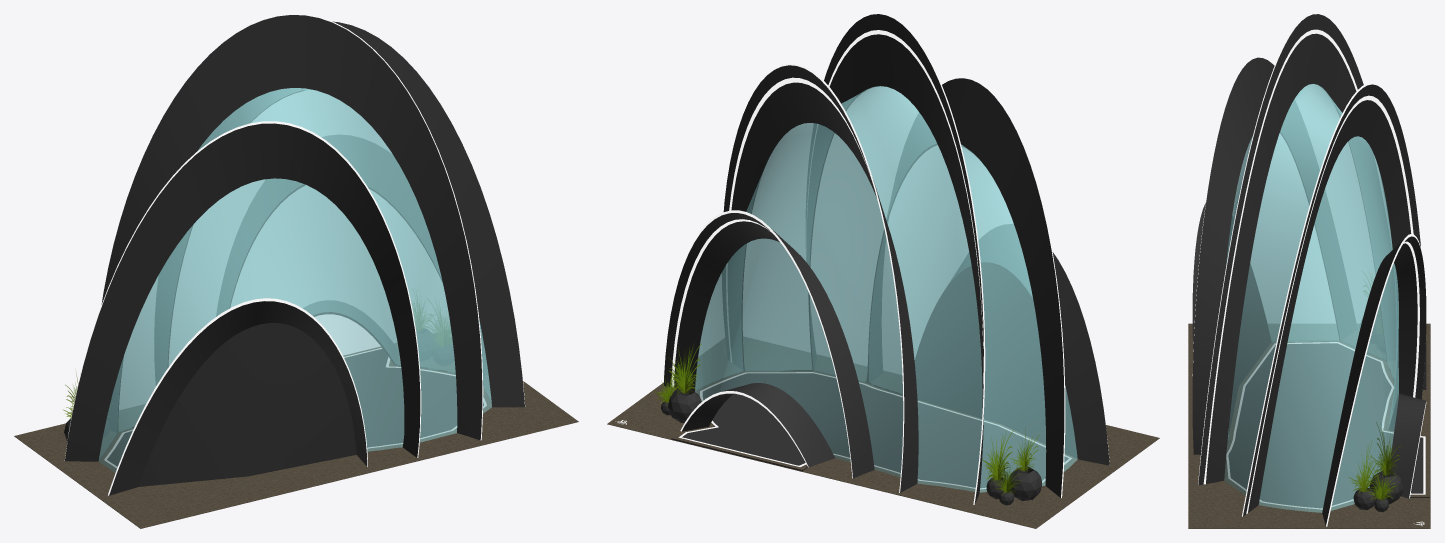
The model's file is Dhingia Builds 09 Size 2x1.glb.
3 renders of one model, left to right at view 1: azimuth 30°, elevation 25°; view 2: azimuth 150°, elevation 25°; view 3: azimuth 270°, elevation 25°, orthographic. The views are drawn at different scales.
Parts seen in each view (by area): view 1: Building, Ground, floor; view 2: Building, floor, Ground, Vase Bog, Vase Bog.001, Vase Small.001; view 3: Building, floor, Ground, Vase Bog, Vase Small, Vase Mid.
Part boxes in pixels (<box>): Building: <box>64,14,525,495</box>; Ground: <box>14,343,578,528</box>; floor: <box>99,348,487,467</box>; Building: <box>664,14,1109,504</box>; floor: <box>671,370,1077,489</box>; Ground: <box>607,337,1159,528</box>; Vase Bog: <box>668,343,701,422</box>; Vase Bog.001: <box>1008,428,1041,501</box>; Vase Small.001: <box>982,430,1013,499</box>; Building: <box>1192,14,1426,526</box>; floor: <box>1226,340,1429,509</box>; Ground: <box>1188,323,1430,528</box>; Vase Bog: <box>1369,422,1403,504</box>; Vase Small: <box>1348,439,1380,509</box>; Vase Mid: <box>1365,466,1397,511</box>.
Size of what is drawn, in the model's own units: 32 by 29.35 by 16.
Materials: 5 (2 with a texture image).
